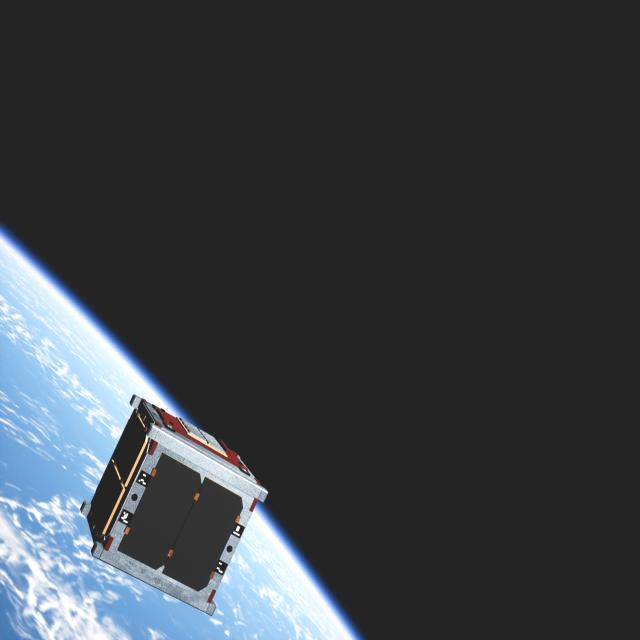satellite: (83, 394, 273, 620)
